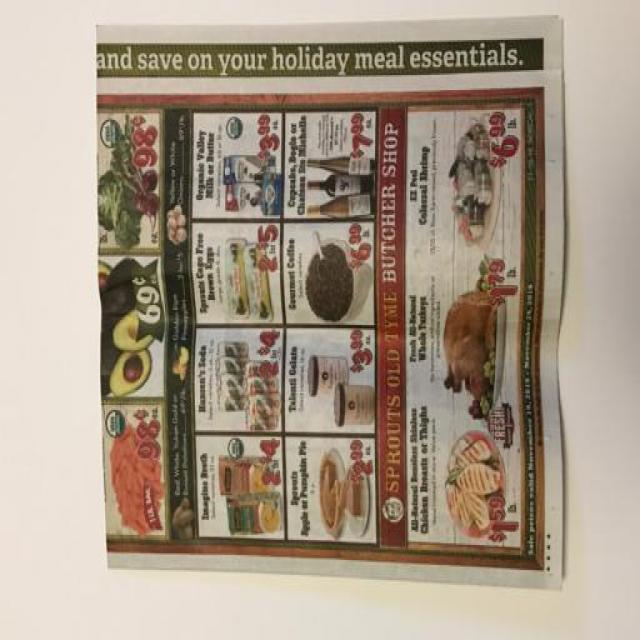paper: (93, 34, 578, 609)
